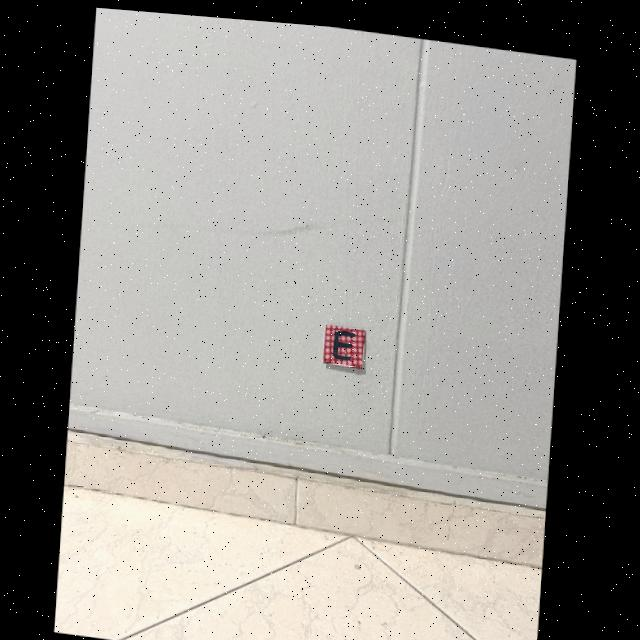E: (335, 324, 355, 355)
